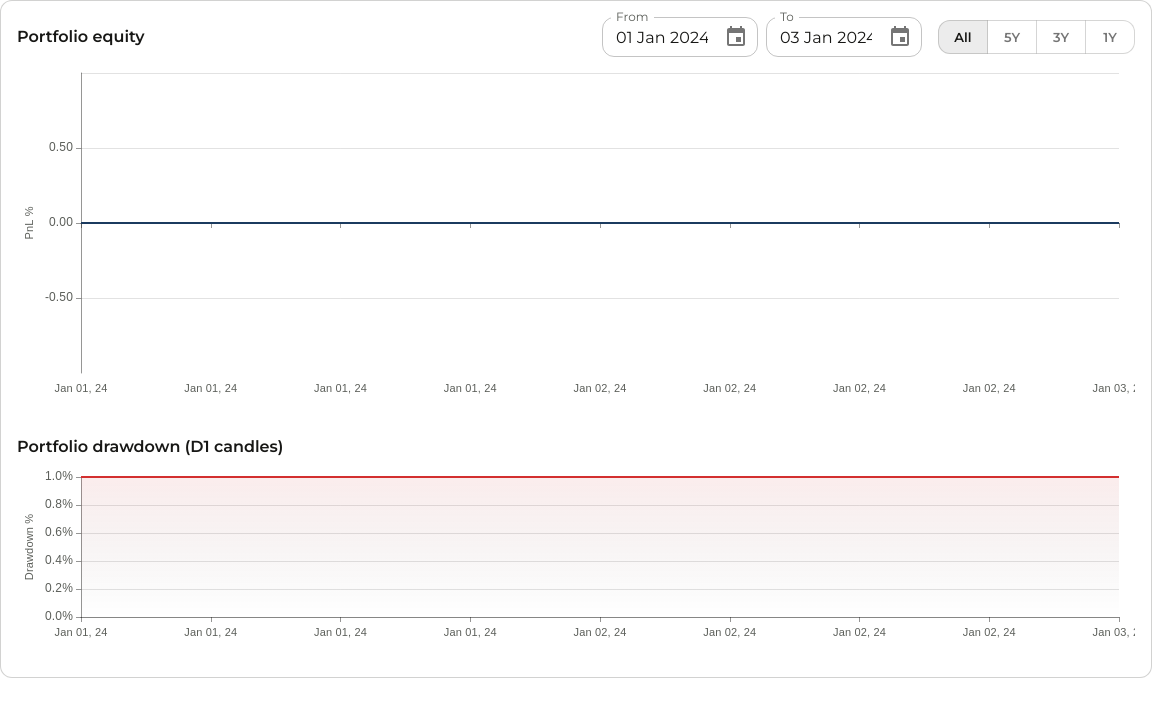
Test: portfolio presentation components › opens the Material calendar from a date field
Click the button named "choose date" at (736, 37), box [716, 17, 756, 57]
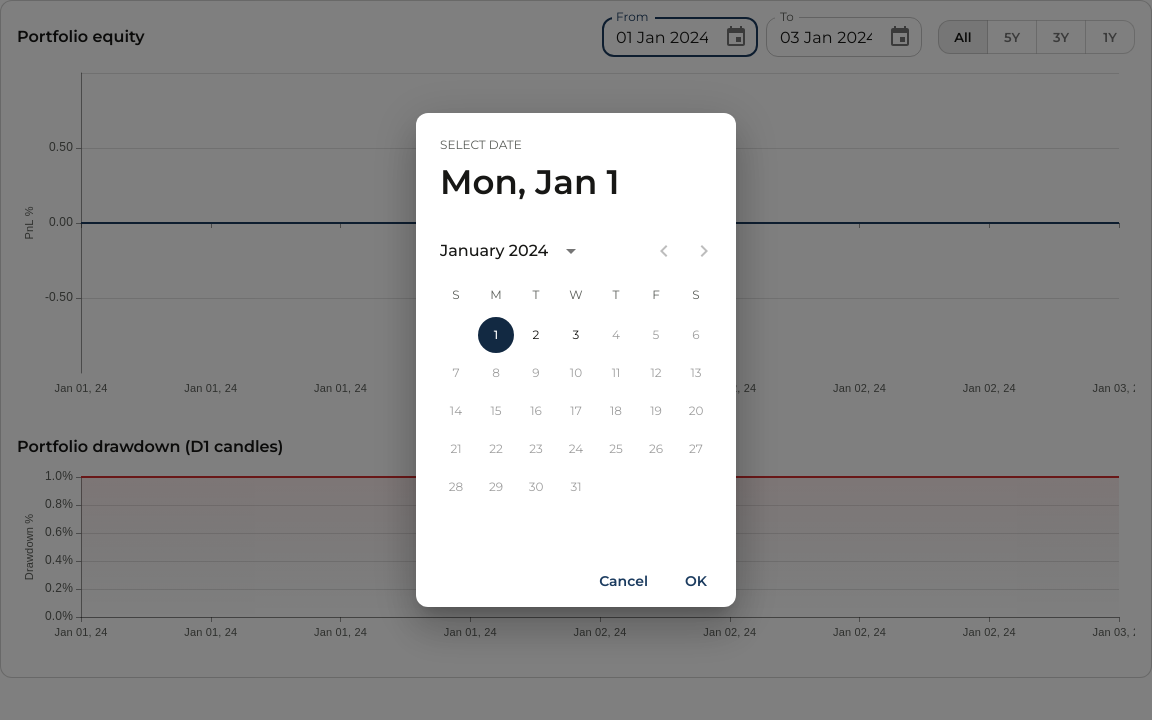
Now the dialog is shown, box [416, 113, 736, 607]
